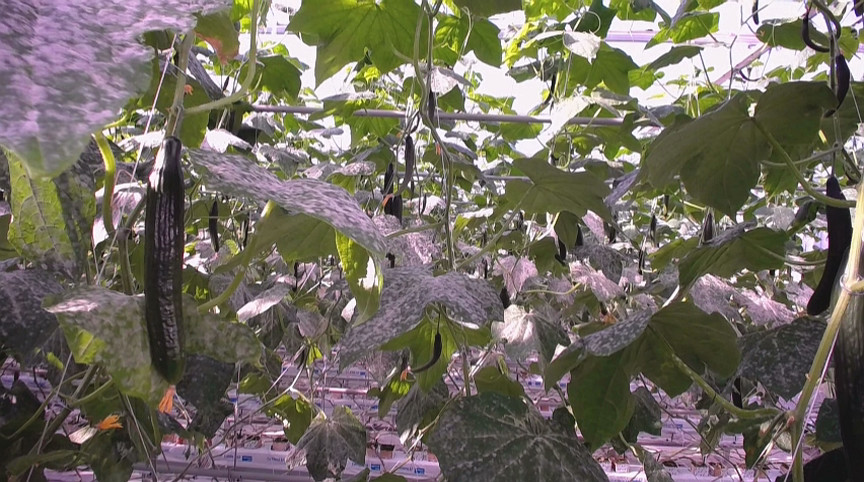cucumber: (148, 137, 185, 386), (806, 179, 851, 314)
